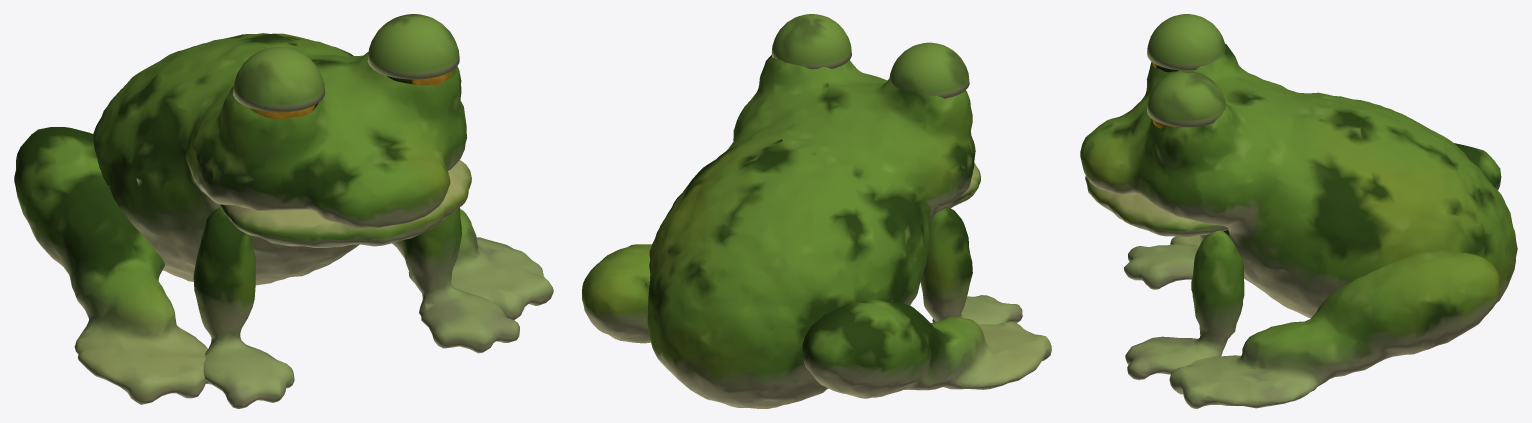
File: frog.glb
The picture shows the model from 3 angles, left to right: view 1: azimuth 30°, elevation 25°; view 2: azimuth 150°, elevation 25°; view 3: azimuth 270°, elevation 25°; orthographic projection. The views are drawn at different scales.
Visible parts, largest first — view 1: Frog_Body, Frog_Leg_R, Frog_Arm_R, Frog_Arm_L, Frog_Jaw, Frog_Leg_L, Frog_Lid_L, Frog_Lid_R; view 2: Frog_Body, Frog_Leg_R, Frog_Arm_R, Frog_Leg_L, Frog_Lid_L, Frog_Lid_R, Frog_Jaw; view 3: Frog_Body, Frog_Leg_L, Frog_Arm_L, Frog_Lid_L, Frog_Lid_R, Frog_Jaw, Frog_Arm_R, Frog_Leg_R.
Part boxes in pixels (bbox=[...]): Frog_Body: bbox=[93, 33, 467, 285]; Frog_Leg_R: bbox=[14, 127, 210, 404]; Frog_Arm_R: bbox=[193, 207, 294, 408]; Frog_Arm_L: bbox=[401, 207, 519, 353]; Frog_Jaw: bbox=[219, 160, 471, 247]; Frog_Leg_L: bbox=[392, 208, 553, 320]; Frog_Lid_L: bbox=[367, 14, 459, 79]; Frog_Lid_R: bbox=[233, 47, 324, 112]; Frog_Body: bbox=[647, 55, 975, 408]; Frog_Leg_R: bbox=[802, 300, 1051, 398]; Frog_Arm_R: bbox=[920, 208, 1022, 324]; Frog_Leg_L: bbox=[582, 244, 652, 343]; Frog_Lid_L: bbox=[771, 14, 851, 69]; Frog_Lid_R: bbox=[889, 42, 969, 98]; Frog_Jaw: bbox=[936, 163, 980, 212]; Frog_Body: bbox=[1080, 44, 1517, 318]; Frog_Leg_L: bbox=[1169, 249, 1499, 408]; Frog_Arm_L: bbox=[1125, 230, 1244, 380]; Frog_Lid_L: bbox=[1147, 70, 1225, 127]; Frog_Lid_R: bbox=[1147, 14, 1225, 70]; Frog_Jaw: bbox=[1085, 176, 1228, 237]; Frog_Arm_R: bbox=[1124, 235, 1205, 289]; Frog_Leg_R: bbox=[1170, 143, 1501, 246].
Bounding box in the file's own units: 0.5584 × 0.3911 × 0.5534.
